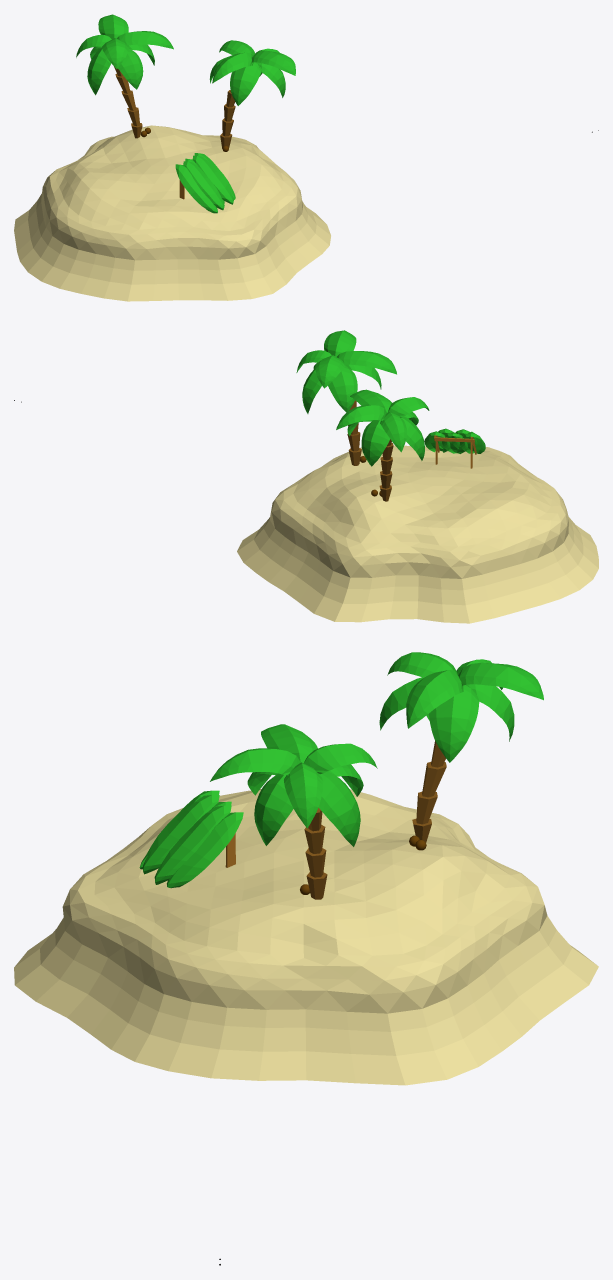
The model's file is island.glb.
3 renders of one model, top to bottom at view 1: azimuth 30°, elevation 25°; view 2: azimuth 150°, elevation 25°; view 3: azimuth 270°, elevation 25°, orthographic. The views are drawn at different scales.
Parts seen in each view (by area): view 1: Island, Tree2, Tree3_03 - Default_0, Shack_03 - Default_0, Tree3_02 - Default_0; view 2: Island, Tree2, Tree3_03 - Default_0, Shack_03 - Default_0, Tree3_02 - Default_0; view 3: Island, Tree2, Tree3_03 - Default_0, Shack_03 - Default_0, Tree3_02 - Default_0.
Part boxes in pixels (x1,y1,x2,y2): Island: [14, 125, 330, 301]; Tree2: [76, 14, 173, 138]; Tree3_03 - Default_0: [209, 40, 295, 105]; Shack_03 - Default_0: [175, 153, 235, 213]; Tree3_02 - Default_0: [220, 90, 235, 148]; Island: [237, 445, 598, 623]; Tree2: [336, 389, 429, 501]; Tree3_03 - Default_0: [296, 330, 396, 413]; Shack_03 - Default_0: [424, 428, 485, 453]; Tree3_02 - Default_0: [347, 400, 361, 465]; Island: [14, 789, 598, 1085]; Tree2: [379, 652, 543, 842]; Tree3_03 - Default_0: [210, 724, 377, 846]; Shack_03 - Default_0: [139, 790, 243, 888]; Tree3_02 - Default_0: [304, 808, 327, 899].
Bounding box in the file's own units: 358 × 116 × 193.
